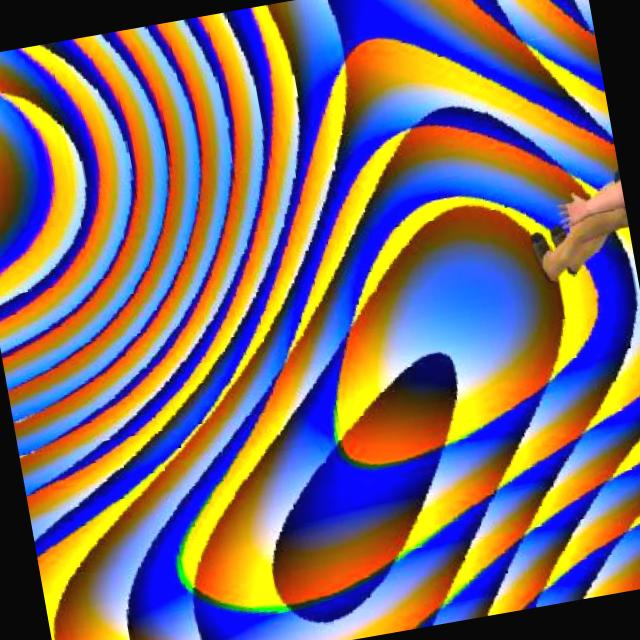Person: (517, 166, 635, 284)
